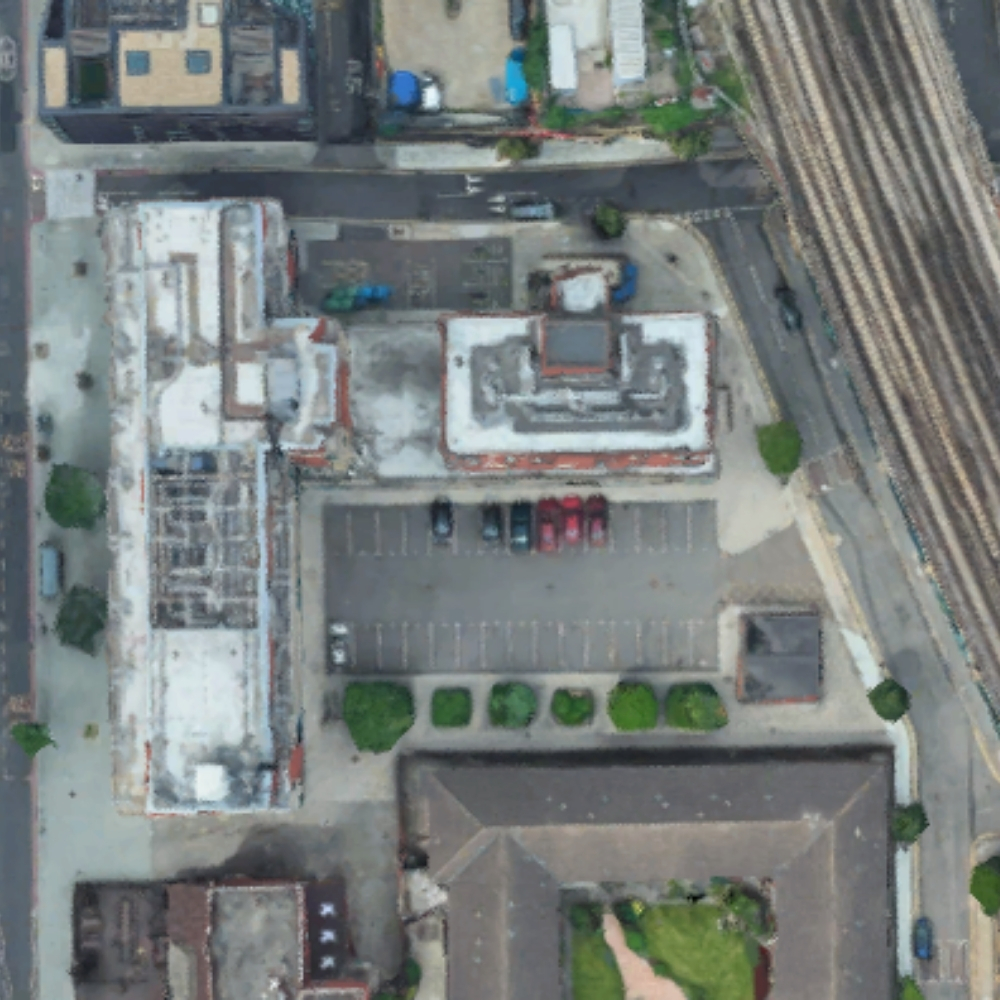parking: (320, 500, 720, 670), (295, 240, 510, 310)
